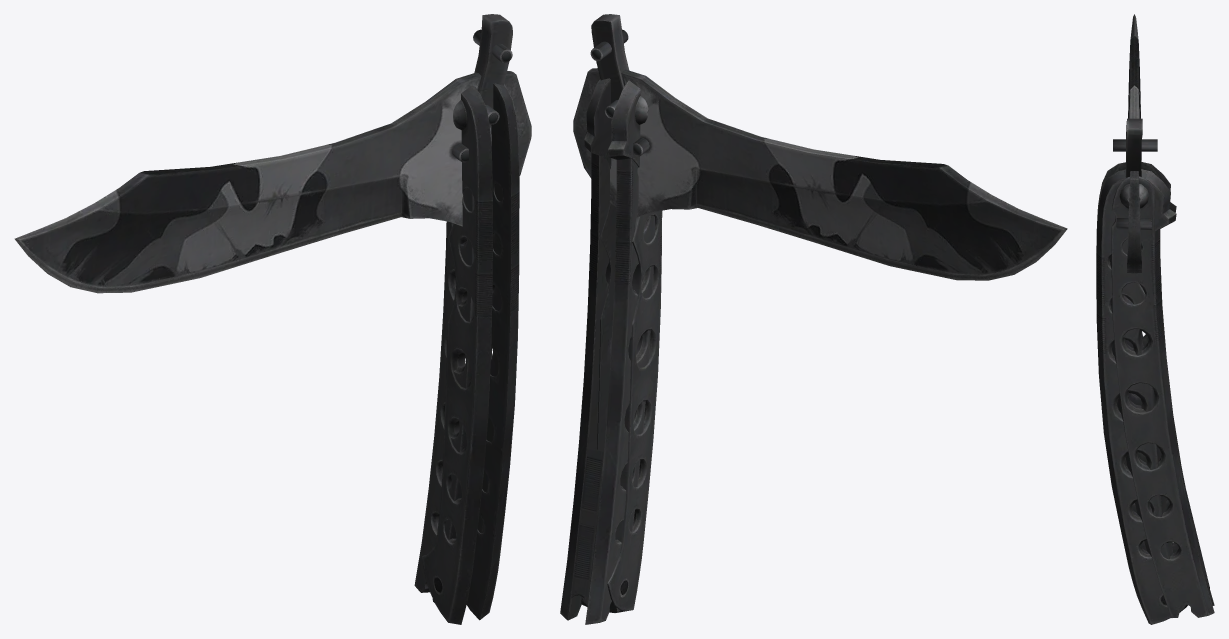
The model's file is ButterflyKnife_7th_Anniversary.obj.
The picture shows the model from 3 angles, left to right: view 1: azimuth 30°, elevation 25°; view 2: azimuth 150°, elevation 25°; view 3: azimuth 270°, elevation 25°; orthographic projection. The views are drawn at different scales.
Parts seen in each view (by area): view 1: Model_Butterfly_Knife, Model_Handle1, Model_Handle2, Model_Handle3; view 2: Model_Butterfly_Knife, Model_Handle2, Model_Handle1, Model_Handle3; view 3: Model_Handle2, Model_Handle1, Model_Butterfly_Knife, Model_Handle3.
Boxes of the visible parts, <box> form: Model_Butterfly_Knife: <box>14,71,531,293</box>; Model_Handle1: <box>421,83,519,624</box>; Model_Handle2: <box>414,83,507,602</box>; Model_Handle3: <box>473,14,512,127</box>; Model_Butterfly_Knife: <box>573,68,1067,280</box>; Model_Handle2: <box>560,78,654,624</box>; Model_Handle1: <box>581,79,662,612</box>; Model_Handle3: <box>590,14,629,118</box>; Model_Handle2: <box>1110,161,1214,617</box>; Model_Handle1: <box>1096,162,1187,624</box>; Model_Butterfly_Knife: <box>1116,14,1151,273</box>; Model_Handle3: <box>1113,118,1157,177</box>.
Size of the model in its own units: 0.1771 by 0.2002 by 0.0426.
Materials: 1 (1 with a texture image).
